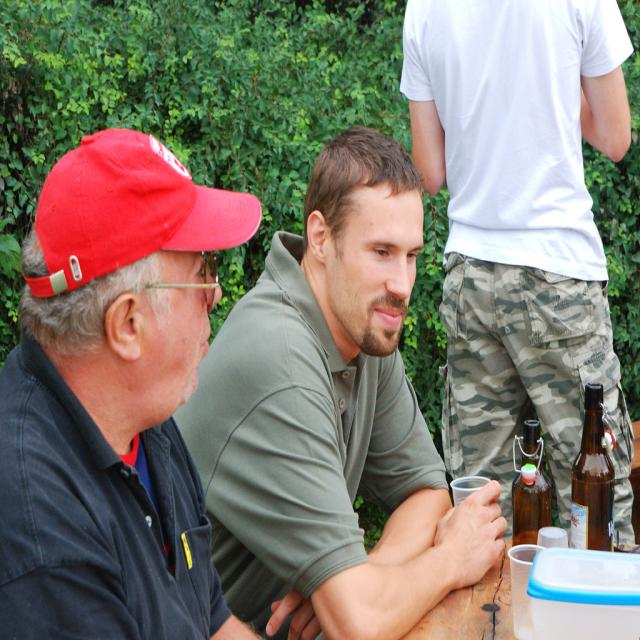Hat: (22, 128, 262, 296)
